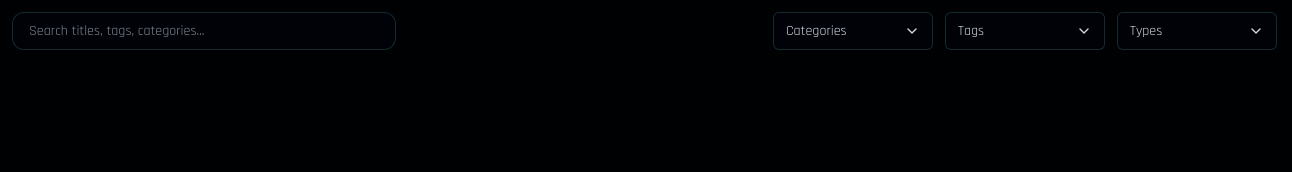
Test: FilterBar › opens a dropdown menu on click
Click the button "Categories" at (853, 31), box top-left (773, 12), bottom-right (933, 50)
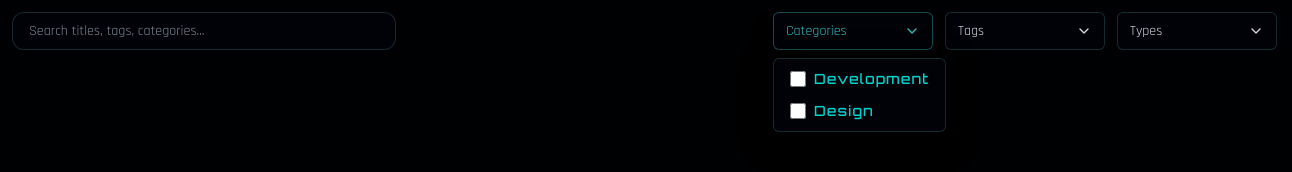
Expected: the menu is shown, top-left (773, 58), bottom-right (946, 132)
Expected: the text "Development" is shown, top-left (814, 69), bottom-right (930, 89)
